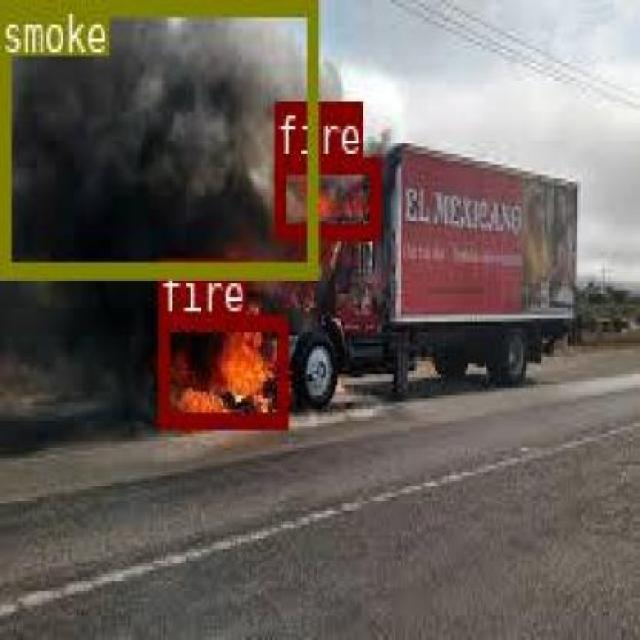Fire: (157, 314, 286, 426), (272, 154, 377, 236)
Smoke: (0, 0, 317, 277)
